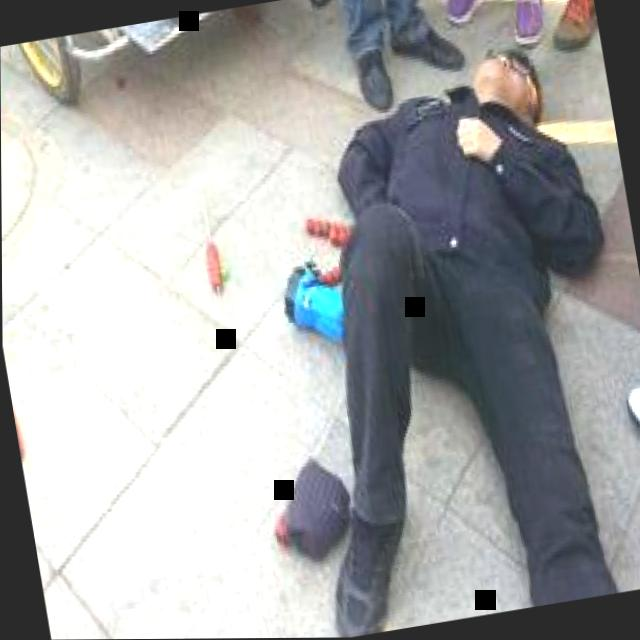Fall-Detected: (215, 0, 640, 639)
